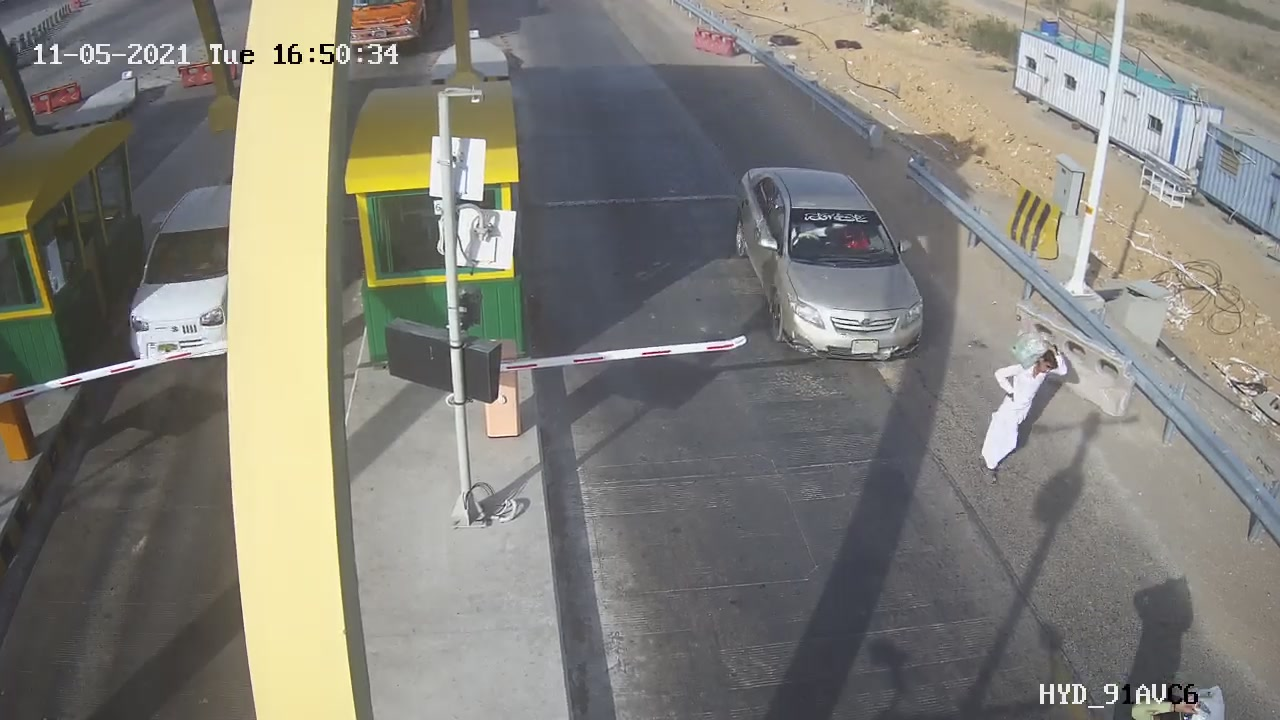F1: (712, 144, 944, 379)
